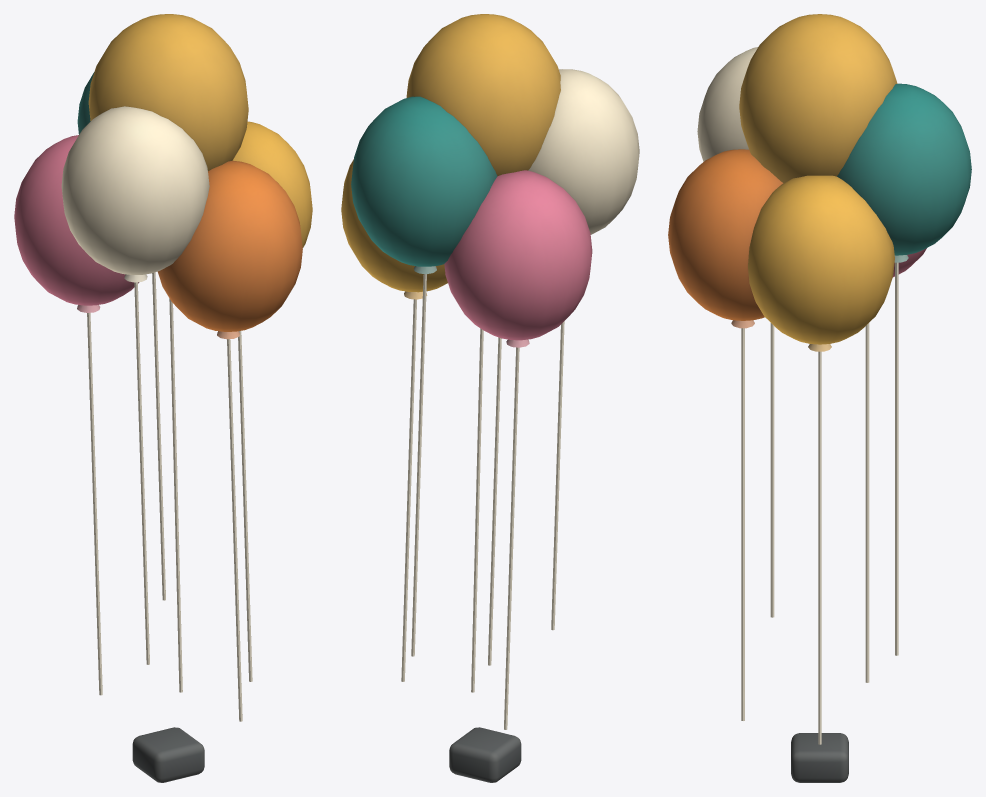
The model's file is BalloonBunch.fbx.
3 renders of one model, left to right at view 1: azimuth 30°, elevation 25°; view 2: azimuth 150°, elevation 25°; view 3: azimuth 270°, elevation 25°, orthographic.
Visible parts, largest first — view 1: BalloonBunch; view 2: BalloonBunch; view 3: BalloonBunch.
Part boxes in pixels (<box>): BalloonBunch: <box>14,14,312,782</box>; BalloonBunch: <box>341,14,639,782</box>; BalloonBunch: <box>668,14,971,782</box>.
Bounding box in the file's own units: 103 × 288 × 105.
